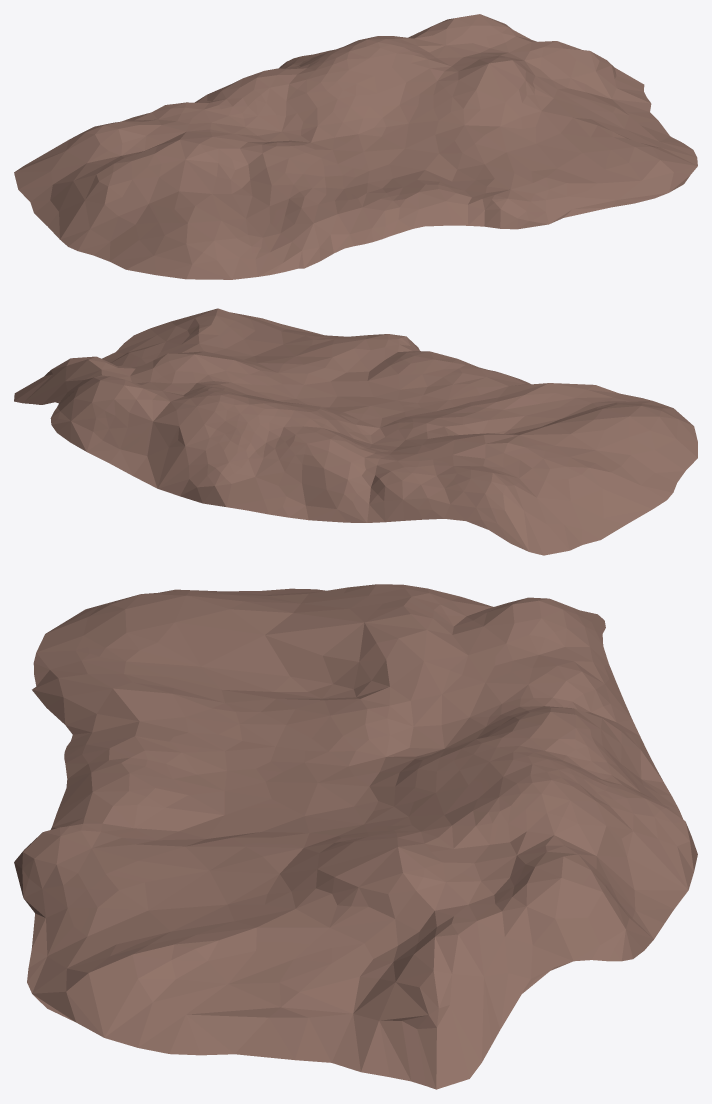
Rendered from hill_002.fbx.
3 views of the same model, one above another, from view 1: azimuth 30°, elevation 25°; view 2: azimuth 150°, elevation 25°; view 3: azimuth 270°, elevation 25° (orthographic). The views are drawn at different scales.
Parts seen in each view (by area): view 1: hill_002; view 2: hill_002; view 3: hill_002.
Boxes of the visible parts, left/top/right/bottom form: hill_002: left=14, top=14, right=697, bottom=279; hill_002: left=14, top=308, right=697, bottom=555; hill_002: left=14, top=584, right=697, bottom=1089.
Bounding box in the file's own units: 10009 × 6079 × 1214.
